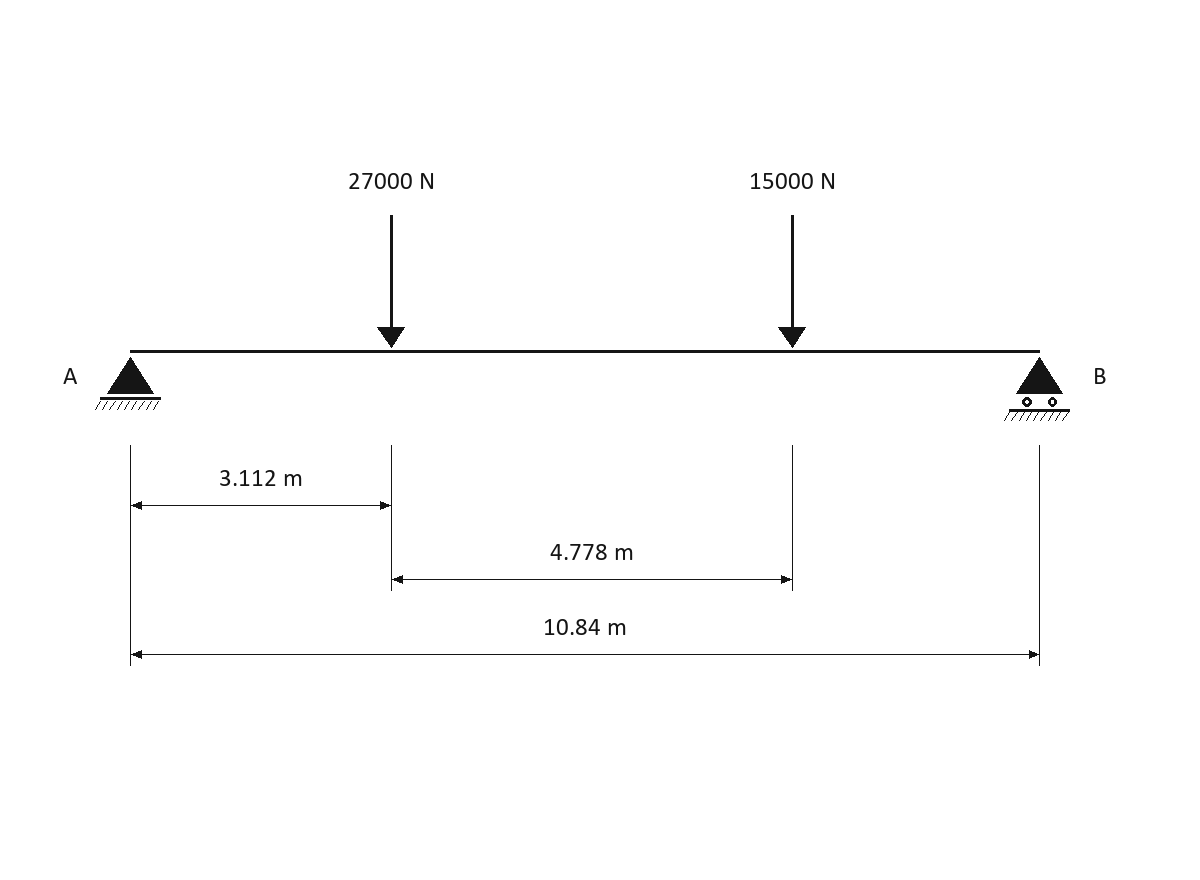pin_support: (95, 357, 161, 410)
point_load: (377, 215, 405, 348), (778, 215, 806, 348)
roller_support: (1004, 357, 1070, 421)
